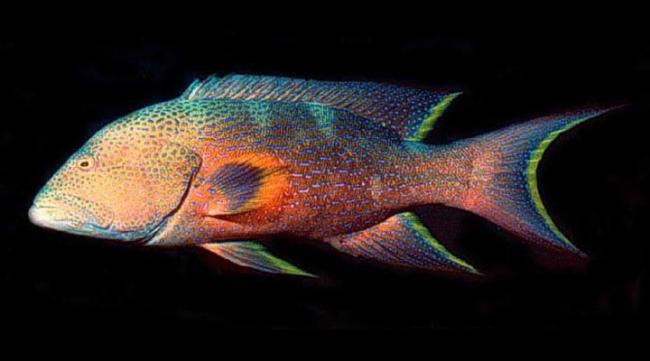fish: (27, 74, 616, 277)
